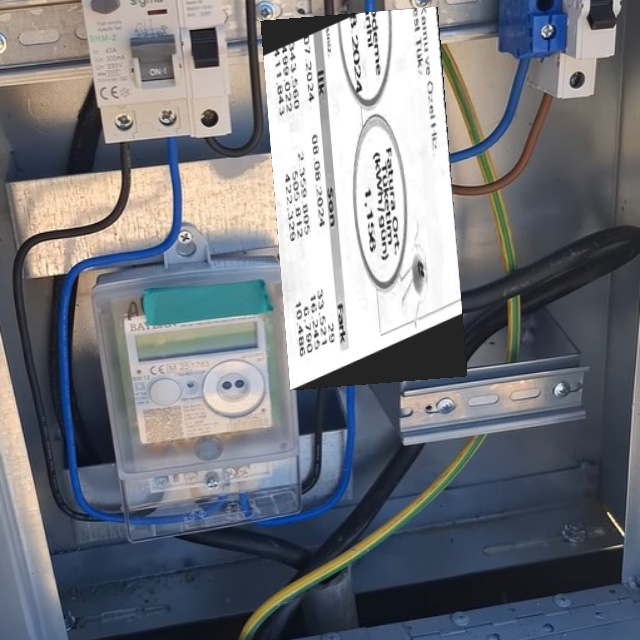electricity-bill: (259, 6, 466, 390)
